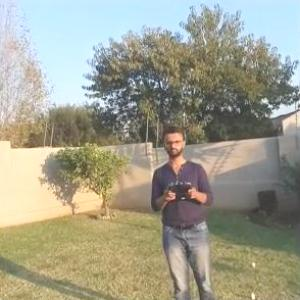follow: (142, 114, 216, 299)
